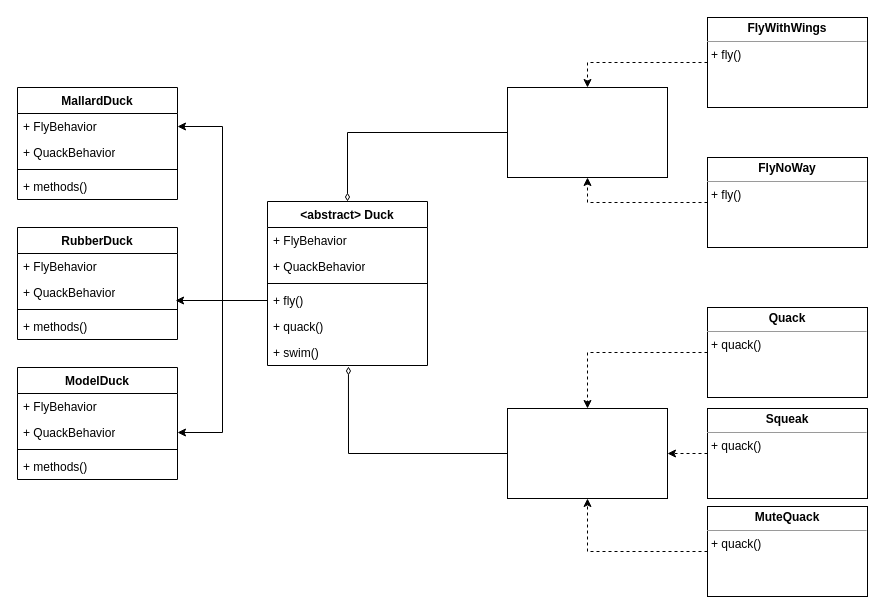
Some shapes in this 885 by 614 pixel diagram are drawn without their labels. The shapes that lost their labels are listed below. From the top down, each one's centre as x and y in pixels, then its label:
At pixel 587 132: "<Interface> FlyBehavior + fly()".
At pixel 587 453: "<Interface> QuackBehavior + quack()".
